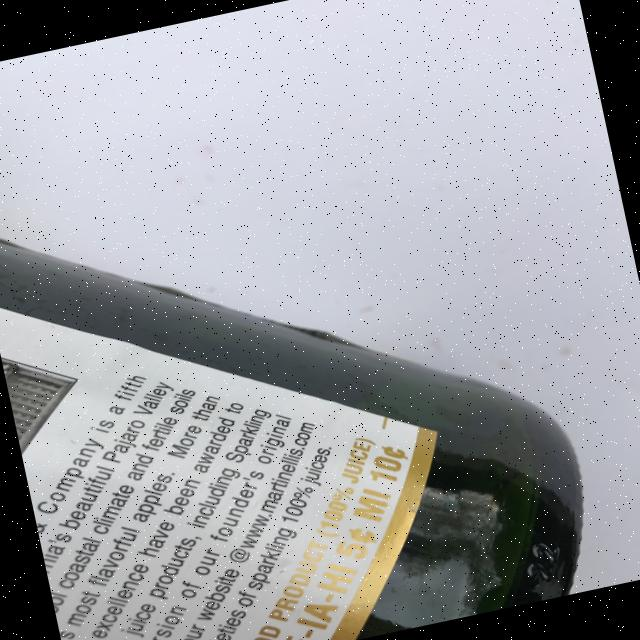glass: (0, 118, 606, 640)
